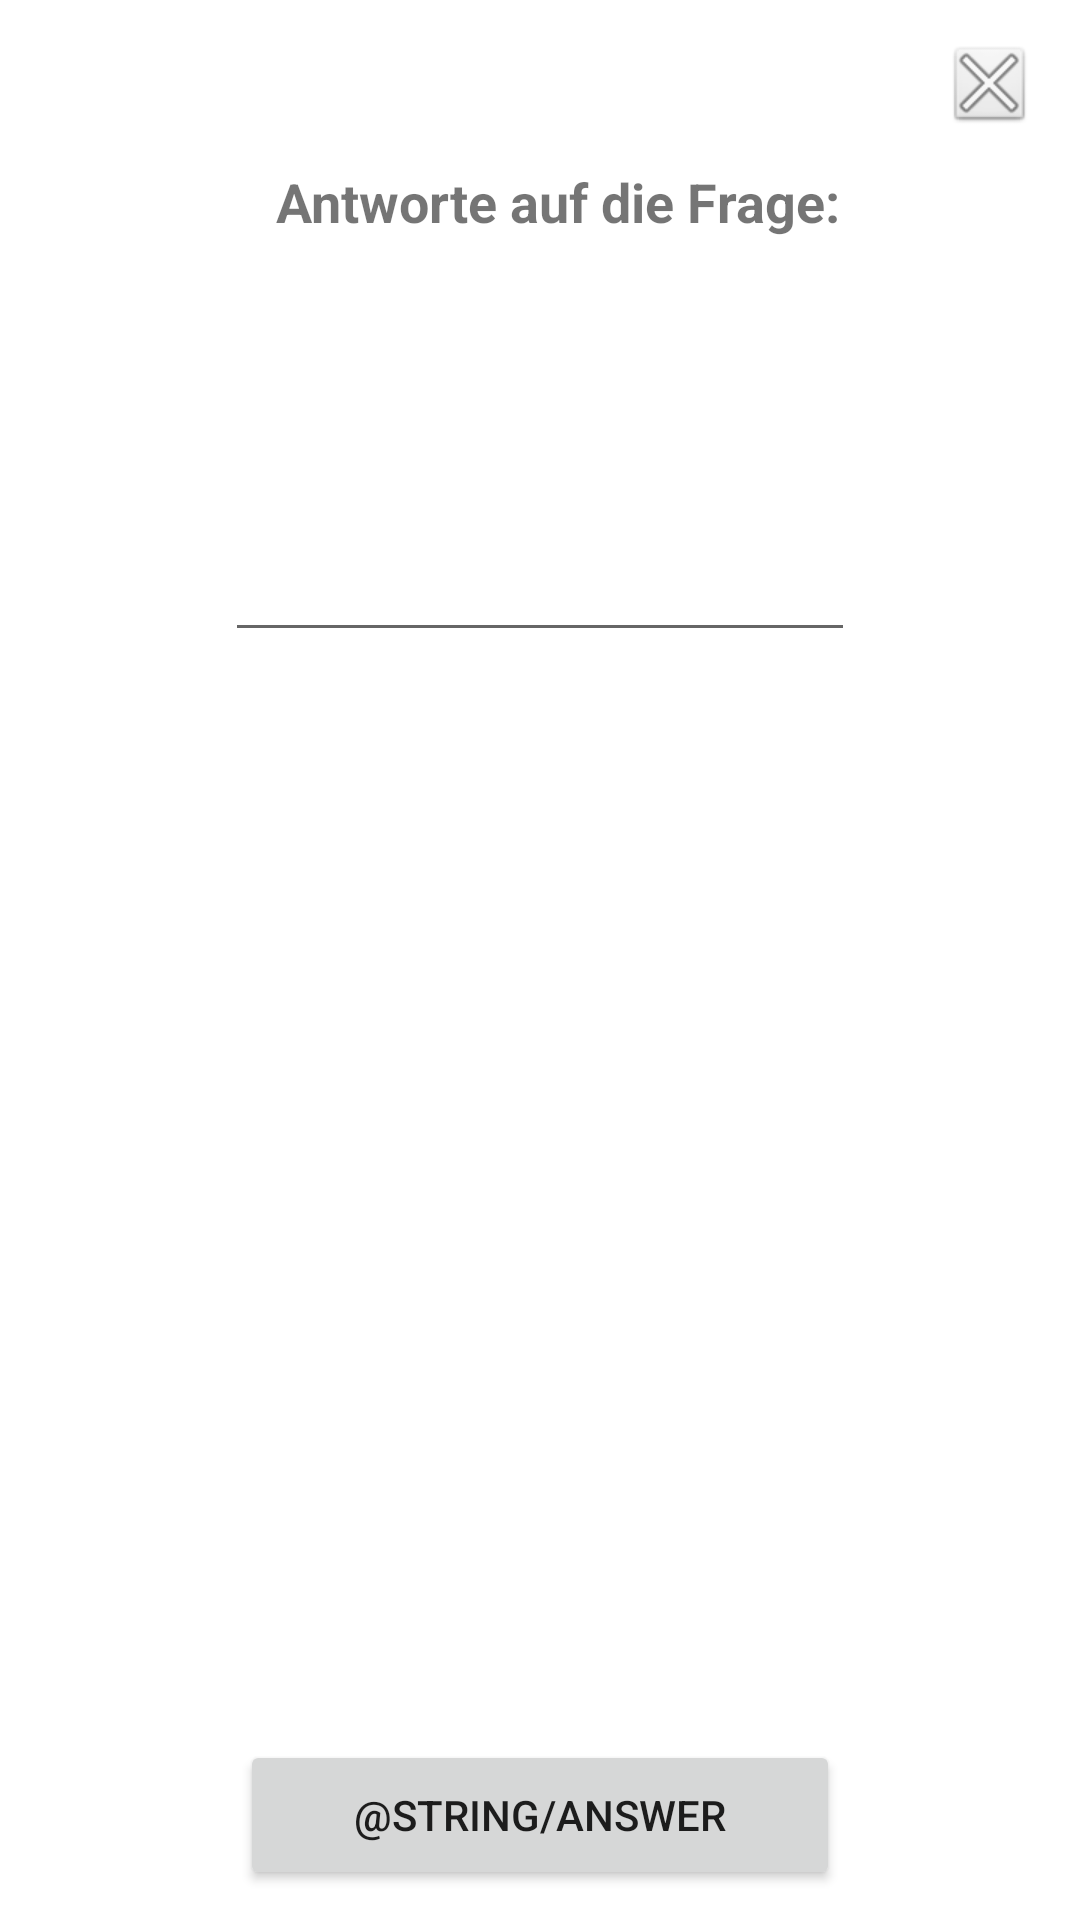

Screen size 1080w x 1920h. Icon name, then its box in pixels as (x1, y1, x2, y2):
close clear cancel: (953, 47, 1026, 123)
